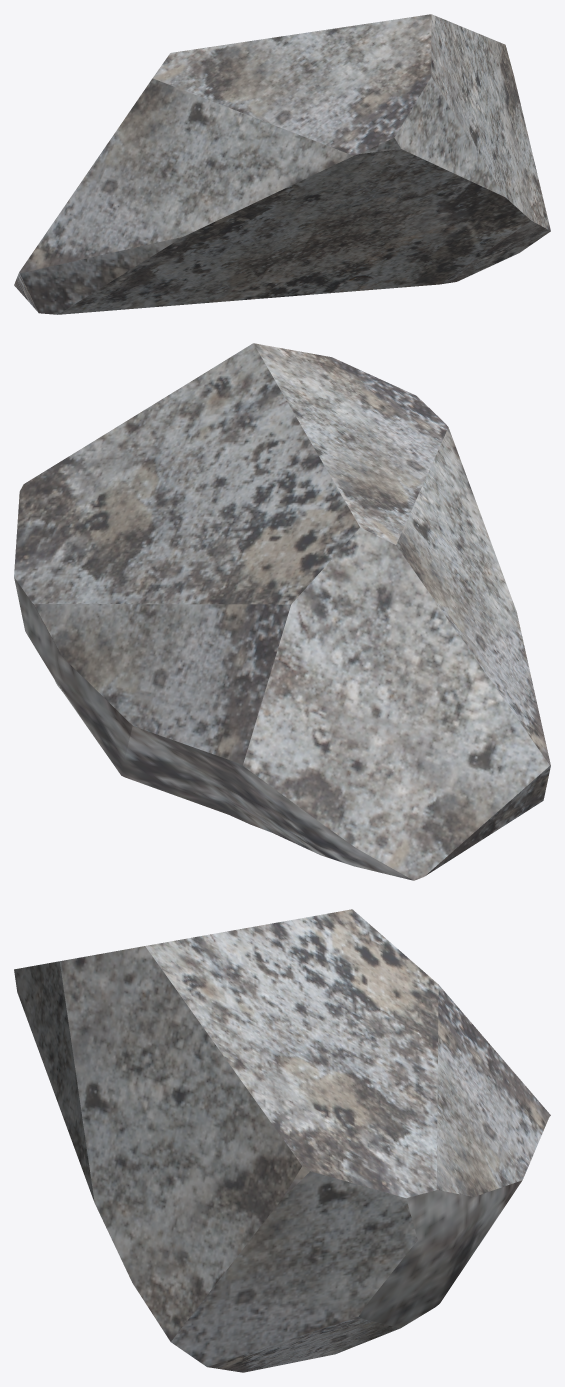
File: Asteroid_Large_001_02_008_03_012.fbx
3 views of the same model, one above another, from view 1: azimuth 30°, elevation 25°; view 2: azimuth 150°, elevation 25°; view 3: azimuth 270°, elevation 25° (orthographic). The views are drawn at different scales.
Parts seen in each view (by area): view 1: Asteroid_Large_001_02_008_03_012; view 2: Asteroid_Large_001_02_008_03_012; view 3: Asteroid_Large_001_02_008_03_012.
Boxes of the visible parts, left/top/right/bottom form: Asteroid_Large_001_02_008_03_012: left=14, top=14, right=550, bottom=314; Asteroid_Large_001_02_008_03_012: left=14, top=343, right=550, bottom=880; Asteroid_Large_001_02_008_03_012: left=14, top=909, right=550, bottom=1372.
Size of the model in its own units: 14.99 by 9.67 by 11.87.
